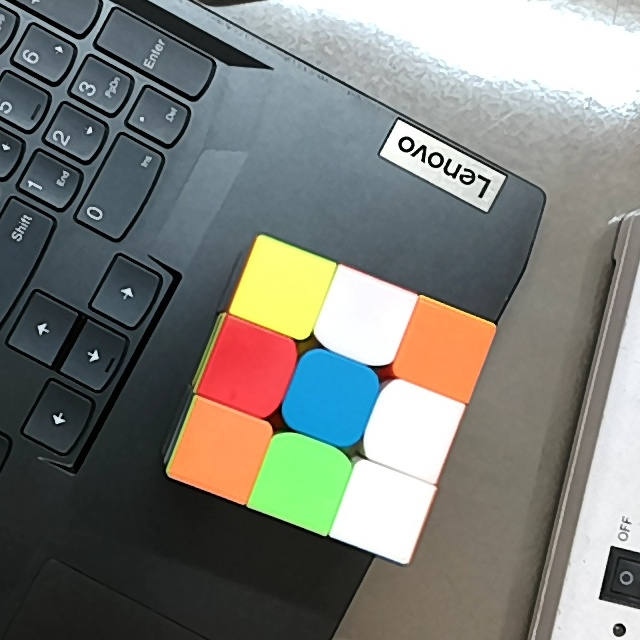tile: (192, 418, 253, 482), (415, 320, 475, 380), (335, 290, 394, 351), (220, 340, 281, 398), (272, 449, 329, 510), (355, 480, 412, 541), (253, 262, 315, 317), (304, 372, 362, 430), (386, 400, 442, 459)
